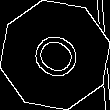O_SE: (22, 23, 88, 87)
